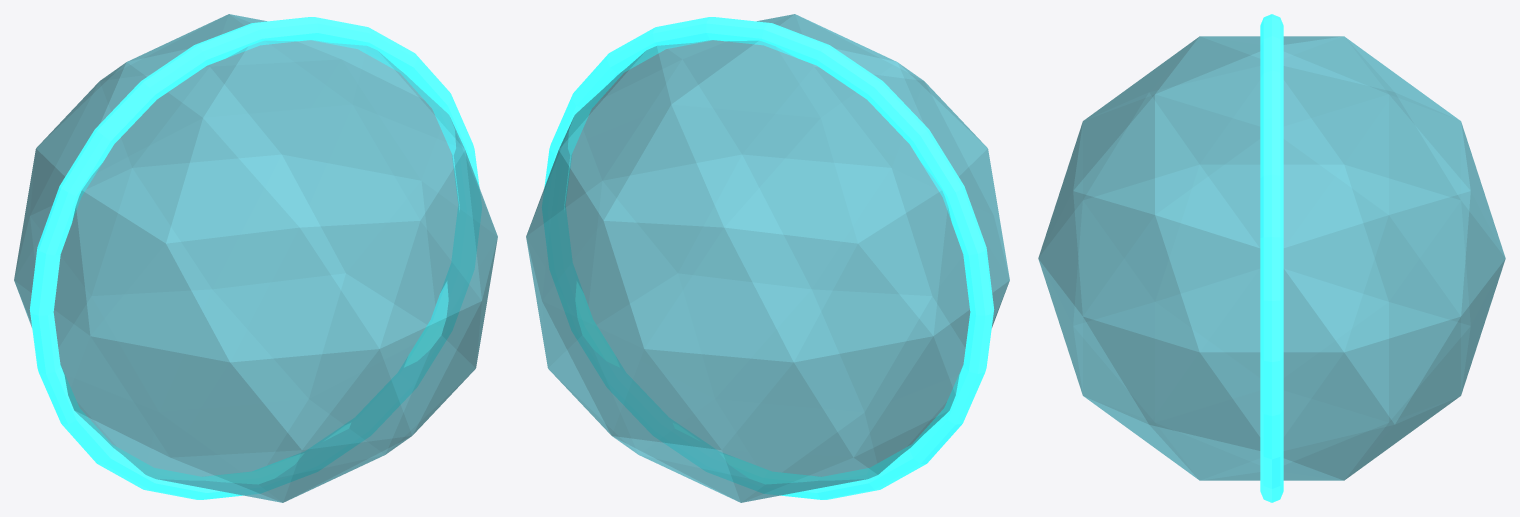
Rendered from wardens-ward-shield.glb.
3 views of the same model, side by side, from view 1: azimuth 30°, elevation 25°; view 2: azimuth 150°, elevation 25°; view 3: azimuth 270°, elevation 25° (orthographic). The views are drawn at different scales.
Visible parts, largest first — view 1: ward-dome, ward-rim-ring; view 2: ward-dome, ward-rim-ring; view 3: ward-dome, ward-rim-ring.
Part boxes in pixels (box(x1,y1,x2,y2)): ward-dome: box(14, 14, 497, 502); ward-rim-ring: box(29, 17, 481, 499); ward-dome: box(526, 14, 1009, 502); ward-rim-ring: box(542, 17, 994, 499); ward-dome: box(1038, 36, 1505, 480); ward-rim-ring: box(1260, 14, 1283, 502).
Bounding box in the file's own units: 1.05 × 1.05 × 1.
